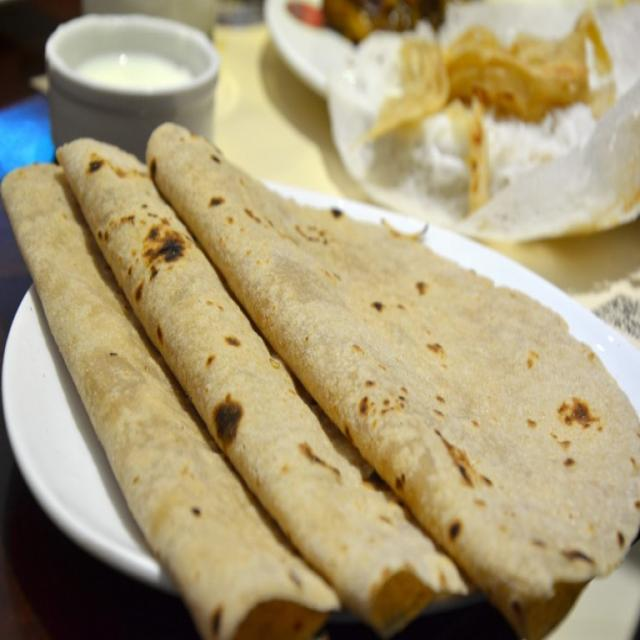chapathi: (158, 83, 640, 640)
dosa: (54, 134, 473, 640)
